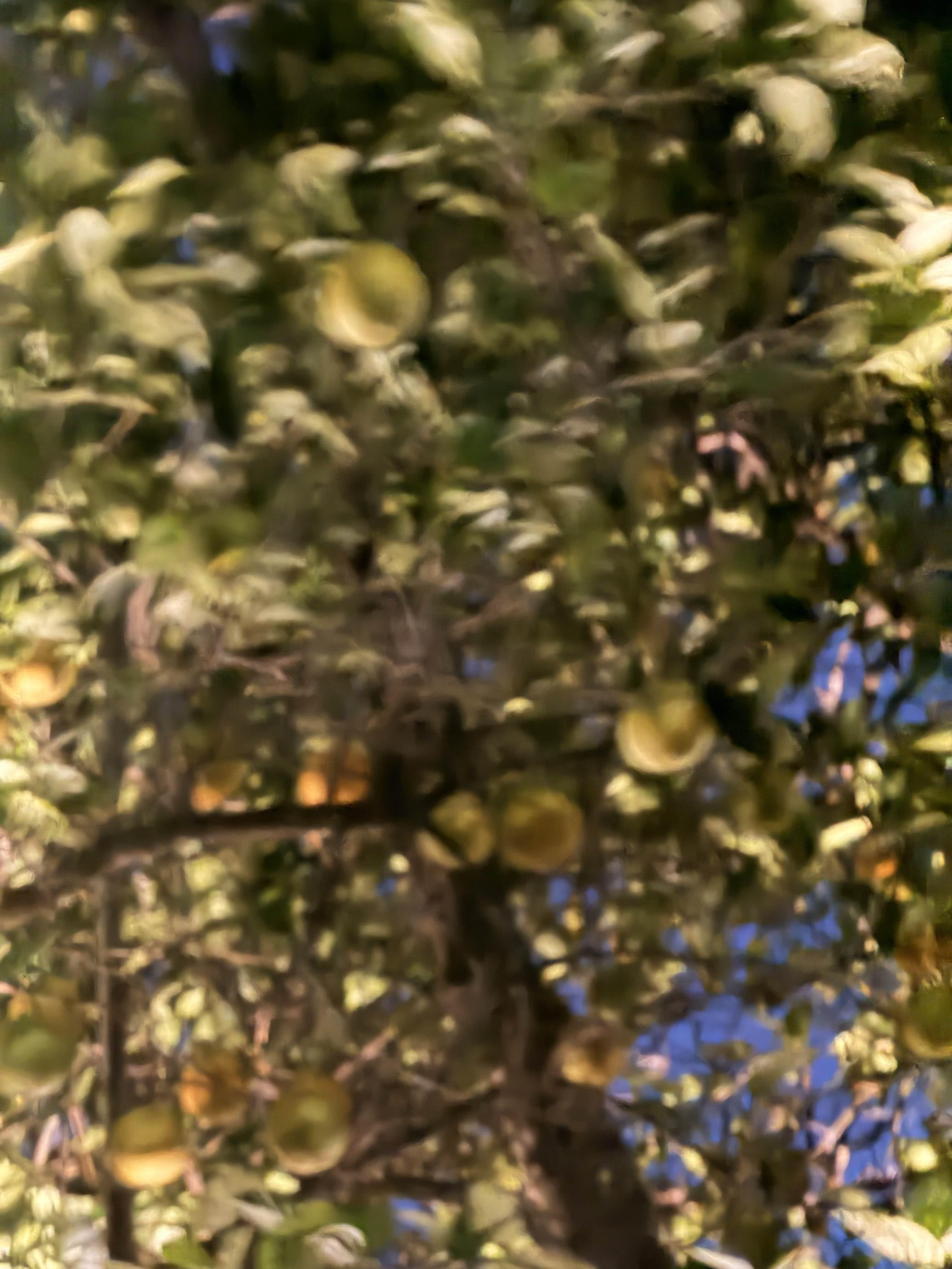orange: (314, 241, 430, 350), (615, 680, 717, 776), (498, 786, 583, 873), (416, 791, 494, 871), (272, 1094, 350, 1172), (547, 1018, 629, 1091), (177, 1049, 251, 1125), (0, 641, 74, 706), (294, 750, 369, 807), (107, 1146, 194, 1189), (189, 762, 252, 814), (284, 1072, 354, 1112)
